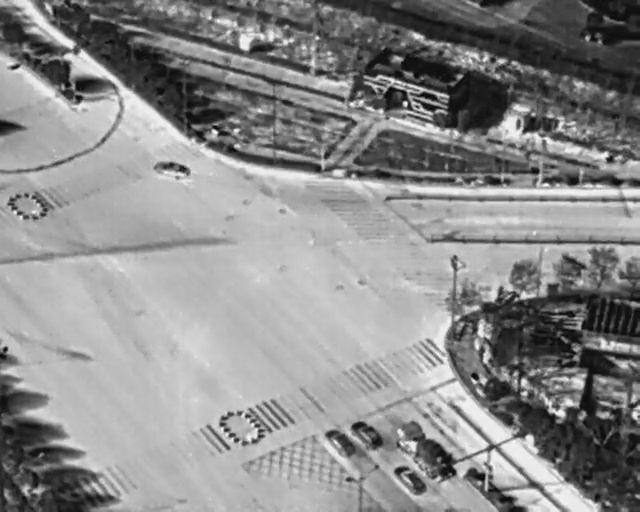Car: (347, 414, 387, 453), (321, 422, 359, 459), (393, 462, 429, 500)
